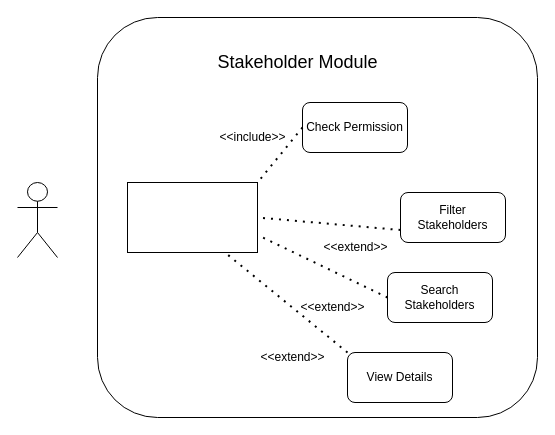
The diagram is 555 pixels wide and 435 high, and some of its shapes have lost their labels. The centre of each missing label's shape, as x and y in pixels:
Actor: (37,220)
View Stakeholders: (192,217)
